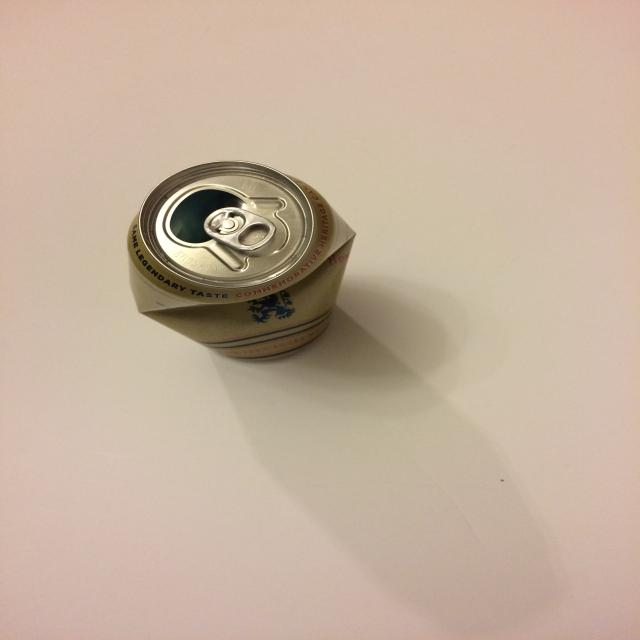metal: (126, 159, 357, 360)
